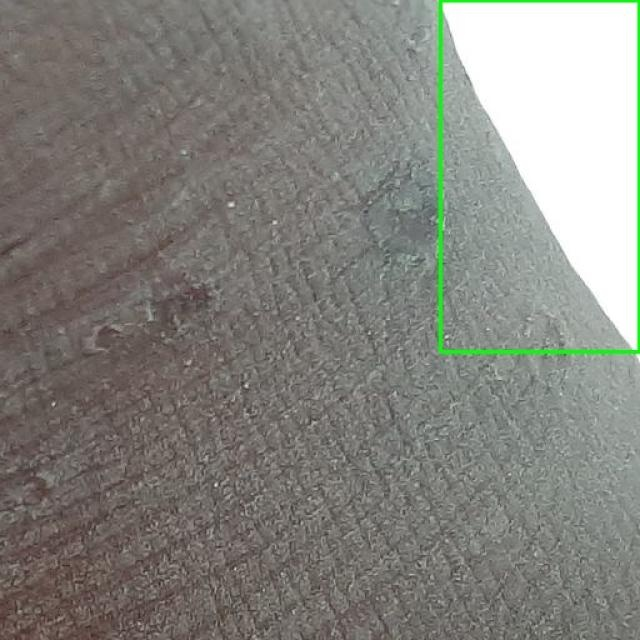Contact Dermatitis: (440, 0, 639, 352)
